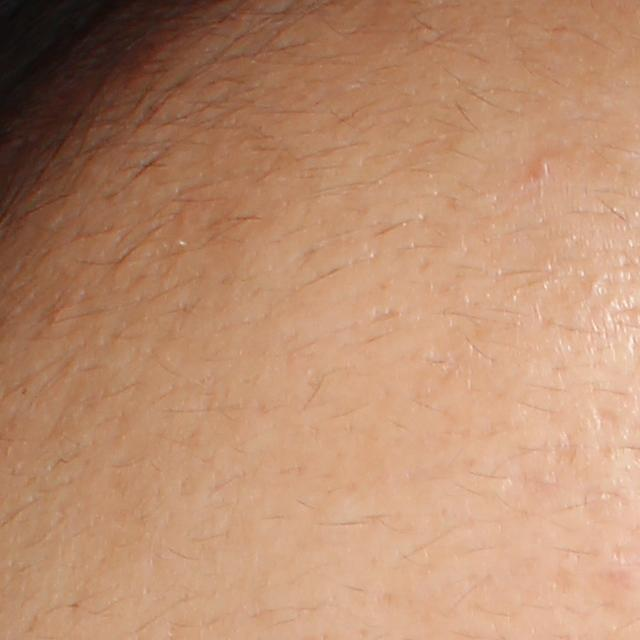papule: (530, 150, 556, 176)
